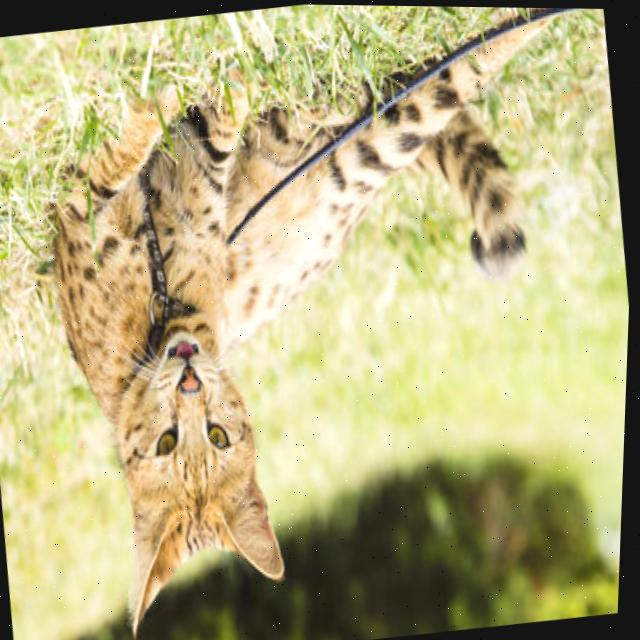Savannah: (14, 0, 640, 640)
